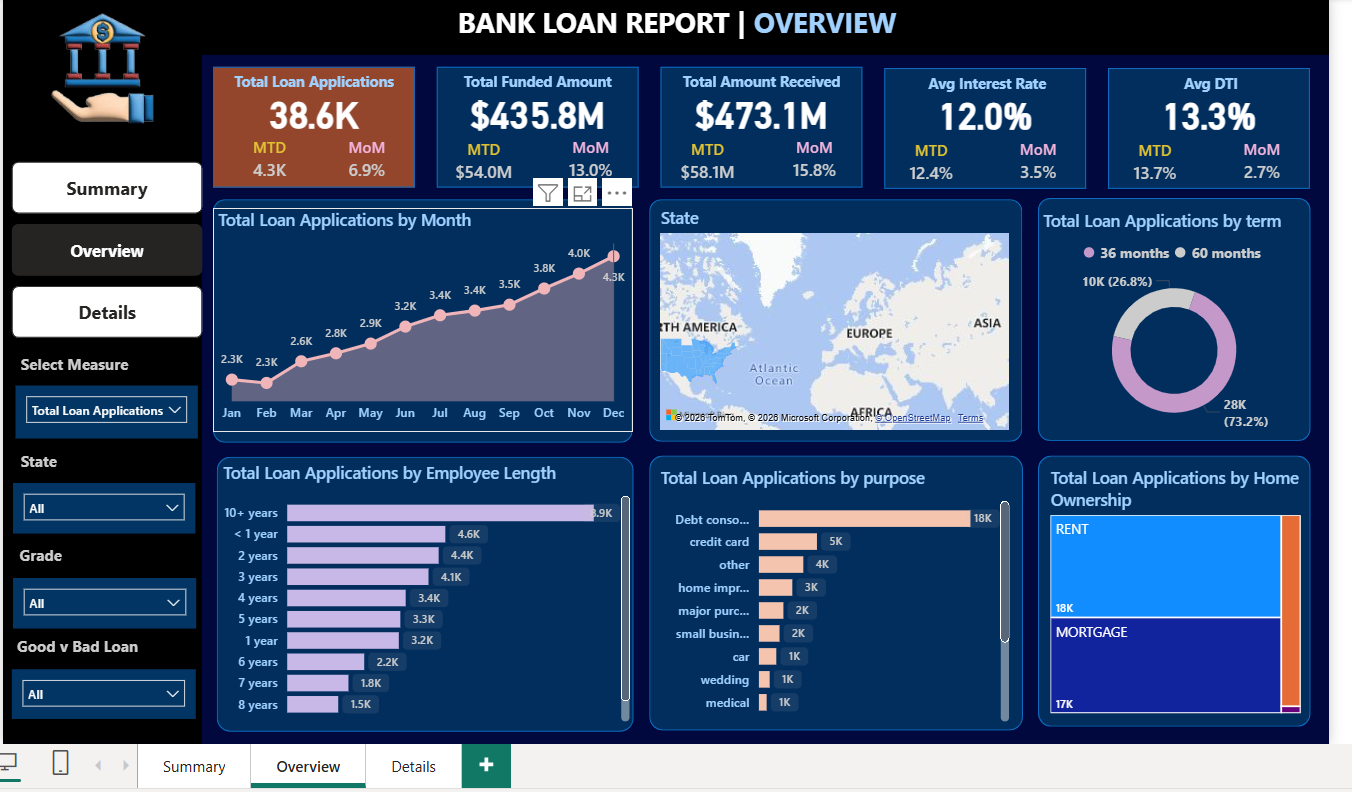

This screenshot's page, from the dashboard's own definition file:
{"tool":"powerbi","page":{"name":"Overview","canvas":[1280,720],"ordinal":1},"visuals":[{"type":"shape","box":[0,54.3,191.8,666],"z":0},{"type":"shape","box":[0,0,1280.3,54.9],"z":1000},{"type":"textbox","box":[424.2,0,451.6,49.5],"z":2000},{"type":"group","id":"g1","title":"Group 1","box":[203,65.9,194.9,116.8],"z":3000},{"type":"shape","box":[203.1,65.9,194.9,116.6],"z":3000,"group":"g6"},{"type":"shape","box":[419,66.3,194.9,116.6],"z":3000,"group":"g7"},{"type":"shape","box":[634.9,66.3,194.9,116.6],"z":3000,"group":"g8"},{"type":"shape","box":[850.7,67.7,194.9,116.6],"z":3000,"group":"g9"},{"type":"shape","box":[1066.5,67.7,194.9,116.6],"z":3000,"group":"g10"},{"type":"group","id":"g2","title":"Group 1","box":[418.9,66.3,194.9,116.8],"z":4000},{"type":"card","fields":{"Values":["financial_loan.Total Loan Applications"]},"box":[203,85.3,194.9,48.7],"z":4000,"group":"g6"},{"type":"card","fields":{"Values":["financial_loan.Total Funded Amount"]},"box":[418.9,85.7,194.9,48.7],"z":4000,"group":"g7"},{"type":"card","fields":{"Values":["financial_loan.Total Amount Received"]},"box":[634.8,85.7,194.9,48.7],"z":4000,"group":"g8"},{"type":"card","fields":{"Values":["financial_loan.Avg Interest Rate"]},"box":[850.6,87.1,194.9,48.7],"z":4000,"group":"g9"},{"type":"card","fields":{"Values":["financial_loan.Avg DTI"]},"box":[1066.4,87.1,194.9,48.7],"z":4000,"group":"g10"},{"type":"textbox","box":[203,66.3,194.9,36.5],"z":5000,"group":"g6"},{"type":"group","id":"g3","title":"Group 1","box":[634.8,66.3,194.9,117.7],"z":5000},{"type":"textbox","box":[418.9,66.7,194.9,36.5],"z":5000,"group":"g7"},{"type":"textbox","box":[634.8,66.7,194.9,36.5],"z":5000,"group":"g8"},{"type":"textbox","box":[850.6,68.1,194.9,36.5],"z":5000,"group":"g9"},{"type":"textbox","box":[1066.4,68.1,194.9,36.5],"z":5000,"group":"g10"},{"type":"group","id":"g4","title":"Group 1","box":[850.6,67.7,194.9,117.7],"z":6000},{"type":"card","title":"MTD","fields":{"Values":["financial_loan.MTD Loan Applications"]},"box":[227.4,134,60.9,48.7],"z":6000,"group":"g6"},{"type":"card","title":"MTD","fields":{"Values":["financial_loan.MTD Funded Amount"]},"box":[423.8,134.9,81.2,47.4],"z":6000,"group":"g7"},{"type":"card","title":"MTD","fields":{"Values":["financial_loan.MTD Total Amount Received"]},"box":[639.7,134.9,81.2,47.4],"z":6000,"group":"g8"},{"type":"card","title":"MTD","fields":{"Values":["financial_loan.MTD Avg Int Rate"]},"box":[855.5,136.3,81.2,47.4],"z":6000,"group":"g9"},{"type":"card","title":"MTD","fields":{"Values":["financial_loan.MTD Avg DTI"]},"box":[1071.3,136.3,81.2,47.4],"z":6000,"group":"g10"},{"type":"group","id":"g5","title":"Group 1","box":[1066.4,67.7,194.9,117.7],"z":7000},{"type":"card","title":"MoM","fields":{"Values":["financial_loan.MoM Loan Applications"]},"box":[320.7,134,60.9,48.7],"z":7000,"group":"g6"},{"type":"card","title":"MoM","fields":{"Values":["financial_loan.MoM Total Funded Amount"]},"box":[536.6,134.4,60.9,48.7],"z":7000,"group":"g7"},{"type":"card","title":"MoM","fields":{"Values":["financial_loan.MoM Total Amount Received"]},"box":[752.5,134.4,60.9,48.7],"z":7000,"group":"g8"},{"type":"card","title":"MoM","fields":{"Values":["financial_loan.MoM Avg Int Rate"]},"box":[968.3,135.8,60.9,48.7],"z":7000,"group":"g9"},{"type":"card","title":"MoM","fields":{"Values":["financial_loan.MoM Avg DTI"]},"box":[1184.1,135.8,60.9,48.7],"z":7000,"group":"g10"},{"type":"group","id":"g6","title":"Group 2","box":[203,65.9,194.9,116.8],"z":7002,"group":"g1"},{"type":"group","id":"g7","title":"Group 2","box":[418.9,66.3,194.9,116.8],"z":7002,"group":"g2"},{"type":"group","id":"g8","title":"Group 2","box":[634.8,66.3,194.9,116.8],"z":7002,"group":"g3"},{"type":"group","id":"g9","title":"Group 2","box":[850.6,67.7,194.9,116.8],"z":7002,"group":"g4"},{"type":"group","id":"g10","title":"Group 2","box":[1066.4,67.7,194.9,116.8],"z":7002,"group":"g5"},{"type":"shape","box":[203.2,193.7,405,235],"z":8000},{"type":"textbox","box":[12.4,431.6,81.1,36.8],"z":9000},{"type":"slicer","fields":{"Values":["financial_loan.address_state"]},"box":[9.3,468.5,175.8,48.4],"z":10000},{"type":"slicer","fields":{"Values":["financial_loan.grade"]},"box":[9.5,559.6,176.8,48.4],"z":11000},{"type":"textbox","box":[10.7,522.6,90.5,36.9],"z":12000},{"type":"textbox","box":[8.3,610.7,172.6,36.9],"z":13000},{"type":"slicer","fields":{"Values":["financial_loan.purpose"]},"box":[8.3,647.6,177.4,47.6],"z":14000},{"type":"areaChart","fields":{"Y":["financial_loan.Total Loan Applications"],"Category":["Date Table.Month"]},"box":[203.2,203.2,405.3,215.8],"z":15000},{"type":"slicer","fields":{"Values":["Select Measure.Select Measure"]},"box":[11.5,374.4,175.8,51.6],"z":16000},{"type":"textbox","box":[11.5,337.6,133.7,36.8],"z":17000},{"type":"shape","box":[623.8,194,360,234],"z":18000},{"type":"filledMap","title":"State","fields":{"Category":["financial_loan.address_state"]},"box":[629.8,200,346.4,221.4],"z":19000},{"type":"shape","box":[998.8,192.9,263.1,234.5],"z":20000},{"type":"donutChart","fields":{"Y":["financial_loan.Total Loan Applications"],"Category":["financial_loan.term"]},"box":[998.8,203.6,263.1,221.4],"z":21000},{"type":"shape","box":[623.8,441.7,360.7,265.5],"z":22000},{"type":"shape","box":[206,442.9,402.4,265.5],"z":23000},{"type":"barChart","fields":{"Y":["financial_loan.Total Loan Applications"],"Category":["financial_loan.emp_length"]},"box":[206.9,446.4,402.4,257.1],"z":24000},{"type":"barChart","fields":{"Y":["financial_loan.Total Loan Applications"],"Category":["financial_loan.purpose"]},"box":[629.8,451.2,346.4,252.4],"z":25000},{"type":"shape","box":[998.8,441.7,263.1,261.9],"z":26000},{"type":"treemap","fields":{"Values":["financial_loan.Total Loan Applications"],"Group":["financial_loan.home_ownership"]},"box":[1006,451.2,251.2,244],"z":27000},{"type":"image","box":[0,11.9,191.7,111.9],"z":28000},{"type":"pageNavigator","box":[8.3,158.3,184.5,170.2],"z":29000}]}

Visuals, with their boxes on the page's 1280x720 design canvas (x1, y1, x2, y2). These are canvas units, not pixel positions in the 1352x792 screenshot, which may show the page scaled, cropped or inside an application window:
shape: (0,54,192,720)
shape: (0,0,1280,55)
textbox: (424,0,876,50)
"Group 1" group: (203,66,398,183)
shape: (203,66,398,182)
shape: (419,66,614,183)
shape: (635,66,830,183)
shape: (851,68,1046,184)
shape: (1066,68,1261,184)
"Group 1" group: (419,66,614,183)
card - financial_loan.Total Loan Applications: (203,85,398,134)
card - financial_loan.Total Funded Amount: (419,86,614,134)
card - financial_loan.Total Amount Received: (635,86,830,134)
card - financial_loan.Avg Interest Rate: (851,87,1046,136)
card - financial_loan.Avg DTI: (1066,87,1261,136)
textbox: (203,66,398,103)
"Group 1" group: (635,66,830,184)
textbox: (419,67,614,103)
textbox: (635,67,830,103)
textbox: (851,68,1046,105)
textbox: (1066,68,1261,105)
"Group 1" group: (851,68,1046,185)
"MTD" card: (227,134,288,183)
"MTD" card: (424,135,505,182)
"MTD" card: (640,135,721,182)
"MTD" card: (856,136,937,184)
"MTD" card: (1071,136,1152,184)
"Group 1" group: (1066,68,1261,185)
"MoM" card: (321,134,382,183)
"MoM" card: (537,134,598,183)
"MoM" card: (752,134,813,183)
"MoM" card: (968,136,1029,184)
"MoM" card: (1184,136,1245,184)
"Group 2" group: (203,66,398,183)
"Group 2" group: (419,66,614,183)
"Group 2" group: (635,66,830,183)
"Group 2" group: (851,68,1046,184)
"Group 2" group: (1066,68,1261,184)
shape: (203,194,608,429)
textbox: (12,432,94,468)
slicer - financial_loan.address_state: (9,468,185,517)
slicer - financial_loan.grade: (10,560,186,608)
textbox: (11,523,101,560)
textbox: (8,611,181,648)
slicer - financial_loan.purpose: (8,648,186,695)
areaChart - financial_loan.Total Loan Applications x Date Table.Month: (203,203,608,419)
slicer - Select Measure.Select Measure: (12,374,187,426)
textbox: (12,338,145,374)
shape: (624,194,984,428)
"State" filledMap: (630,200,976,421)
shape: (999,193,1262,427)
donutChart - financial_loan.Total Loan Applications x financial_loan.term: (999,204,1262,425)
shape: (624,442,984,707)
shape: (206,443,608,708)
barChart - financial_loan.Total Loan Applications x financial_loan.emp_length: (207,446,609,704)
barChart - financial_loan.Total Loan Applications x financial_loan.purpose: (630,451,976,704)
shape: (999,442,1262,704)
treemap - financial_loan.Total Loan Applications x financial_loan.home_ownership: (1006,451,1257,695)
image: (0,12,192,124)
pageNavigator: (8,158,193,328)
